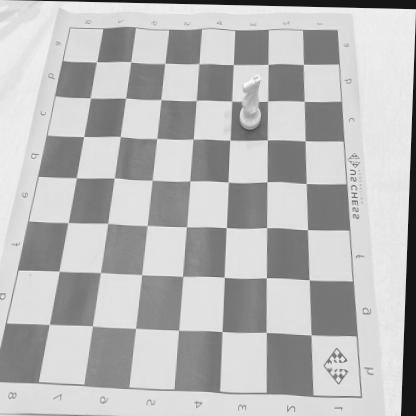white-knight: (239, 72, 264, 130)
